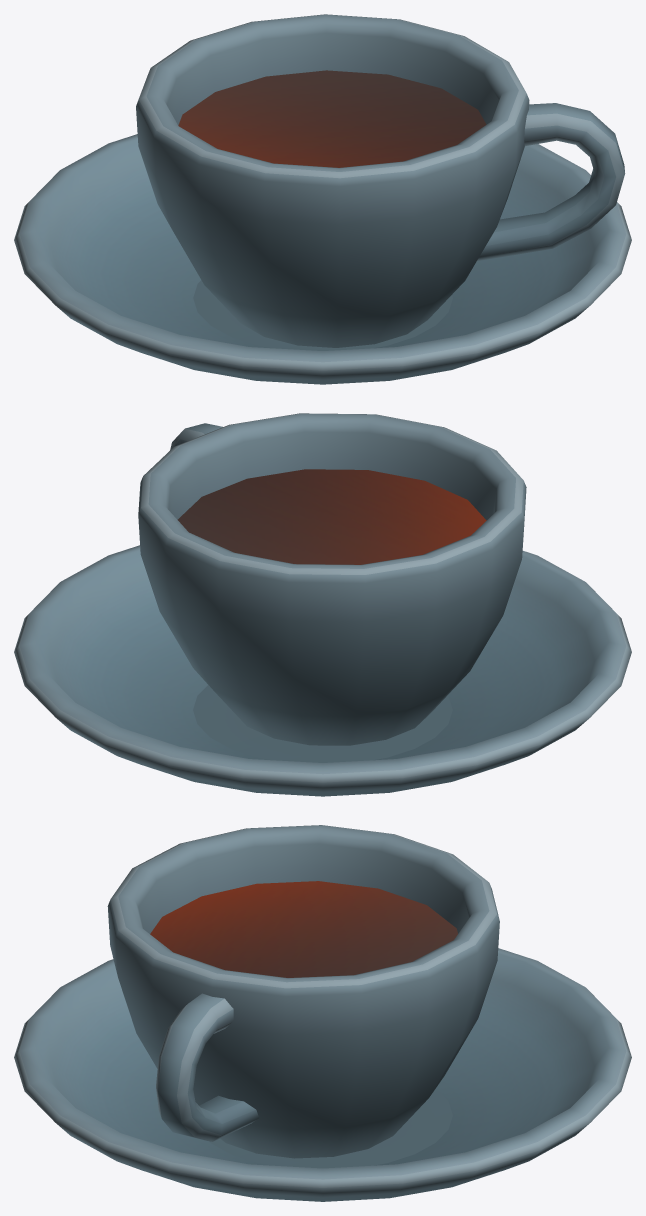
Rendered from tea_001.fbx.
3 views of the same model, one above another, from view 1: azimuth 30°, elevation 25°; view 2: azimuth 150°, elevation 25°; view 3: azimuth 270°, elevation 25° (orthographic).
Visible parts, largest first — view 1: tea_001; view 2: tea_001; view 3: tea_001.
Boxes of the visible parts, bbox=[...] form: tea_001: bbox=[14, 14, 631, 384]; tea_001: bbox=[14, 413, 631, 796]; tea_001: bbox=[14, 825, 631, 1201].
Size of the model in its own units: 12.69 by 12.69 by 5.01.
